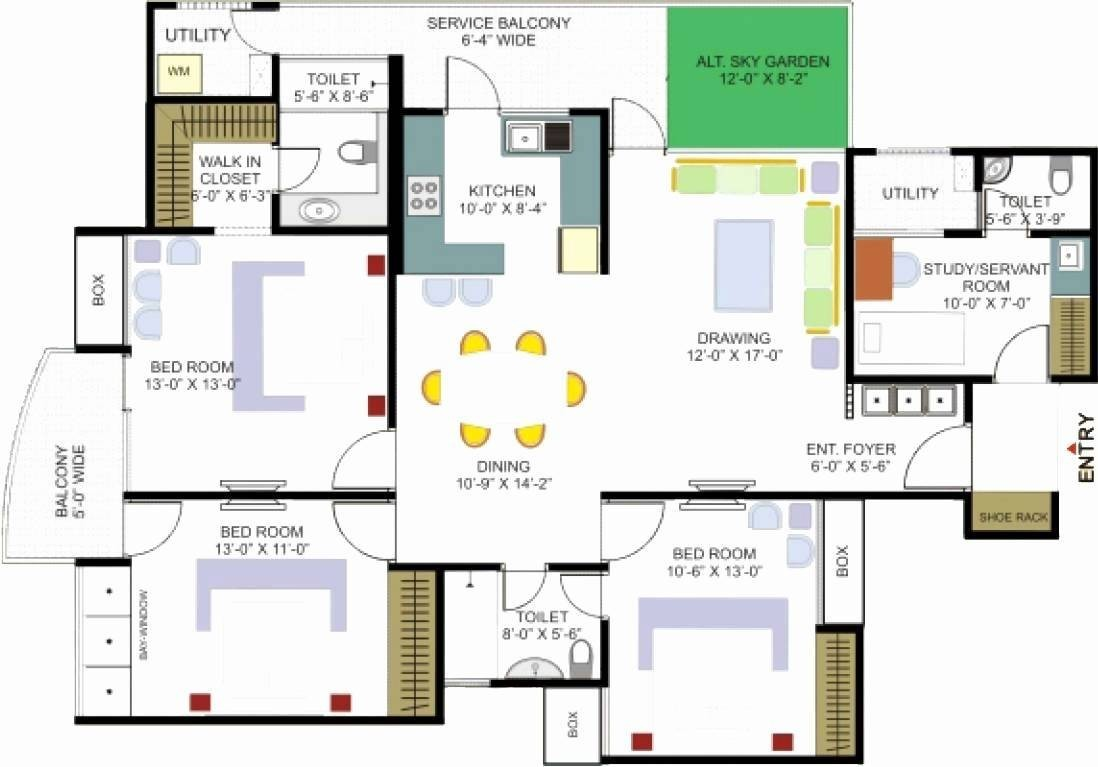door: (132, 501, 189, 563), (609, 499, 666, 561), (326, 497, 383, 559), (329, 428, 386, 490), (994, 319, 1051, 381), (901, 430, 958, 492), (441, 49, 498, 105), (609, 88, 661, 146), (556, 572, 598, 617), (231, 5, 269, 54), (282, 142, 324, 186), (499, 577, 545, 612), (985, 184, 1022, 216)
room: (59, 487, 446, 727), (69, 225, 400, 502), (599, 487, 870, 767), (838, 231, 1098, 390), (141, 96, 407, 236), (432, 556, 613, 695), (146, 2, 286, 111), (144, 1, 284, 109), (842, 145, 986, 242), (970, 146, 1098, 247)
